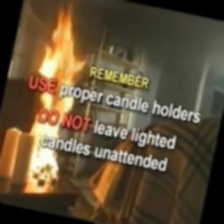fire: (13, 0, 96, 180)
